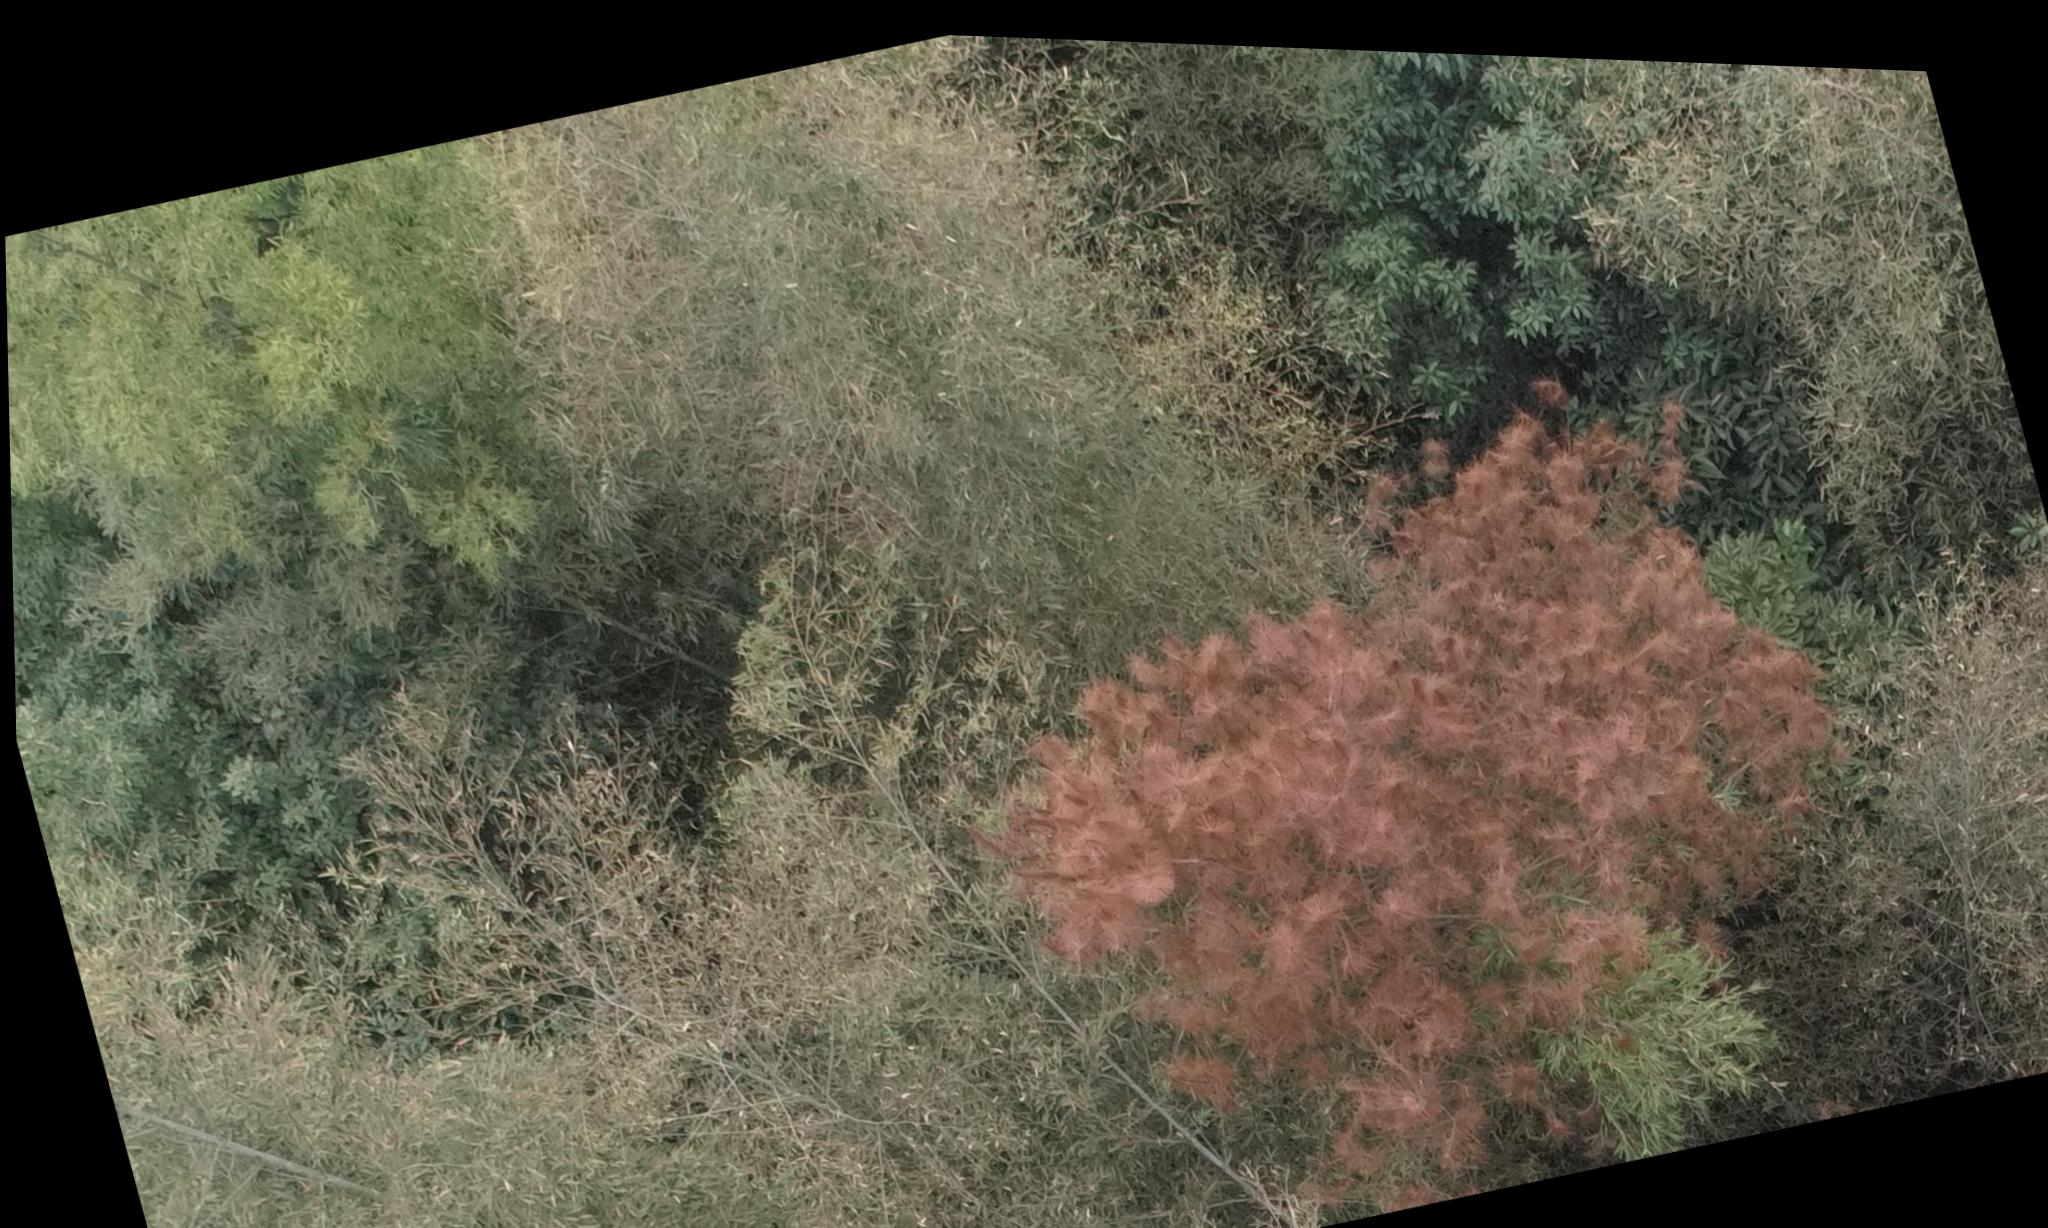heavy: (895, 307, 1941, 1228)
